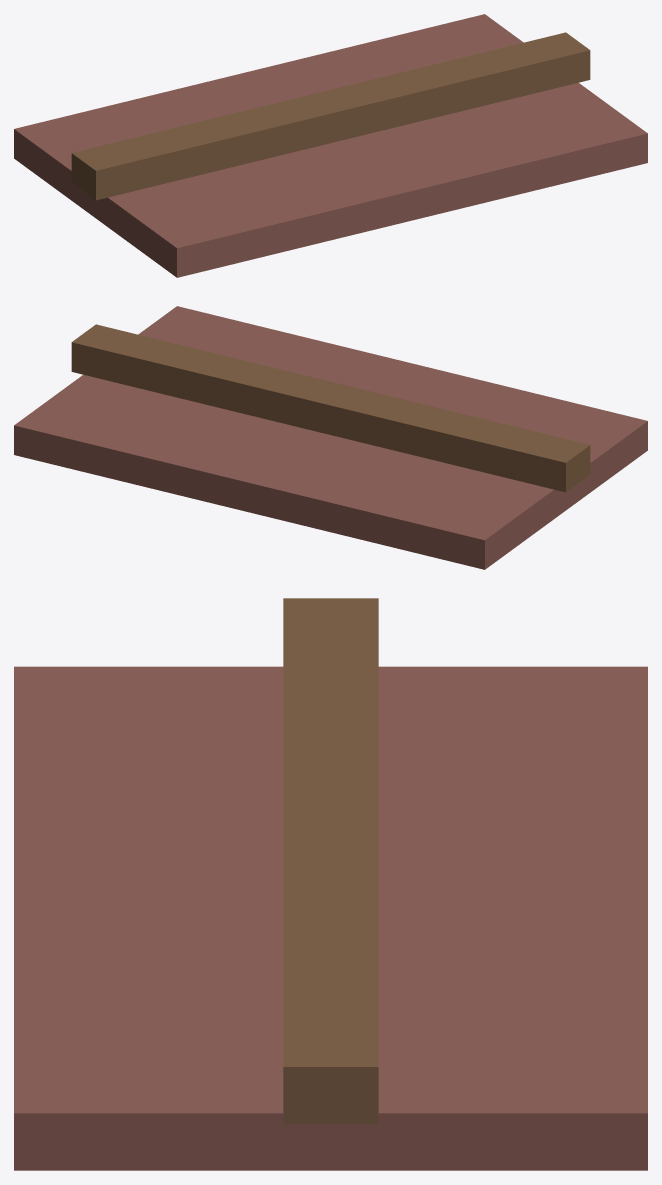
Rendered from roof_module.glb.
3 renders of one model, top to bottom at view 1: azimuth 30°, elevation 25°; view 2: azimuth 150°, elevation 25°; view 3: azimuth 270°, elevation 25°, orthographic. The views are drawn at different scales.
Visible parts, largest first — view 1: roof_module; view 2: roof_module; view 3: roof_module.
Boxes of the visible parts, <box> form: roof_module: <box>14,14,647,277</box>; roof_module: <box>14,306,647,569</box>; roof_module: <box>14,598,647,1170</box>.
Bounding box in the file's own units: 2.1 × 0.24 × 1.2.
